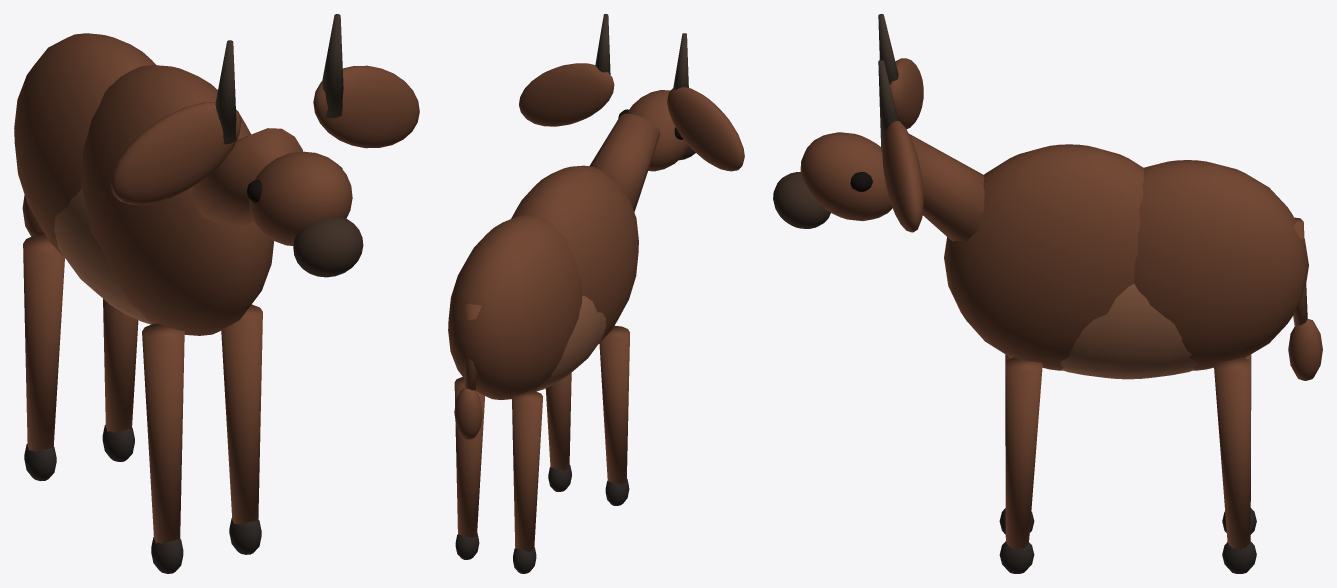
Rendered from shami.glb.
3 views of the same model, side by side, from view 1: azimuth 30°, elevation 25°; view 2: azimuth 150°, elevation 25°; view 3: azimuth 270°, elevation 25° (orthographic). The views are drawn at different scales.
Parts seen in each view (by area): view 1: shami; view 2: shami; view 3: shami.
Part boxes in pixels (<box>): shami: <box>14,14,419,573</box>; shami: <box>448,14,744,573</box>; shami: <box>773,14,1322,573</box>.
Bounding box in the file's own units: 0.8959 × 1.65 × 1.58.
